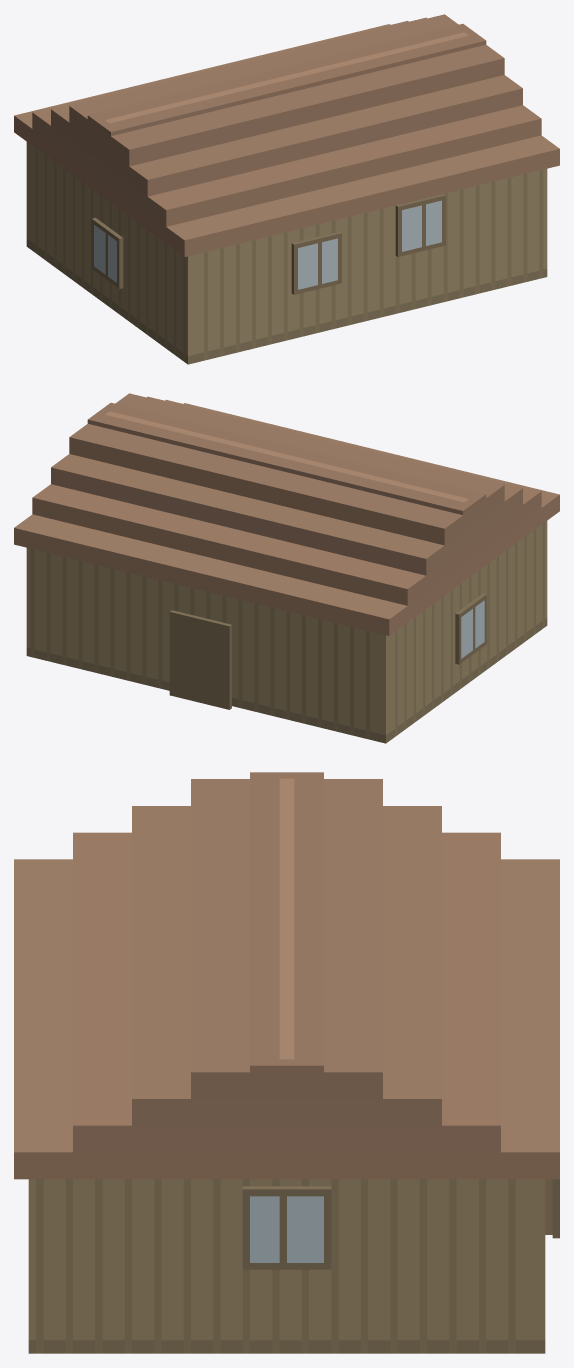
File: molino_comunal_02.glb
The picture shows the model from 3 angles, top to bottom: view 1: azimuth 30°, elevation 25°; view 2: azimuth 150°, elevation 25°; view 3: azimuth 270°, elevation 25°; orthographic projection. The views are drawn at different scales.
Parts seen in each view (by area): view 1: molino_comunal_02; view 2: molino_comunal_02; view 3: molino_comunal_02.
Boxes of the visible parts, x1,y1,x2,y2 form: molino_comunal_02: (14,14,559,364); molino_comunal_02: (14,393,559,743); molino_comunal_02: (14,772,559,1353).
Bounding box in the file's own units: 9.4 × 4.4 × 7.4.
